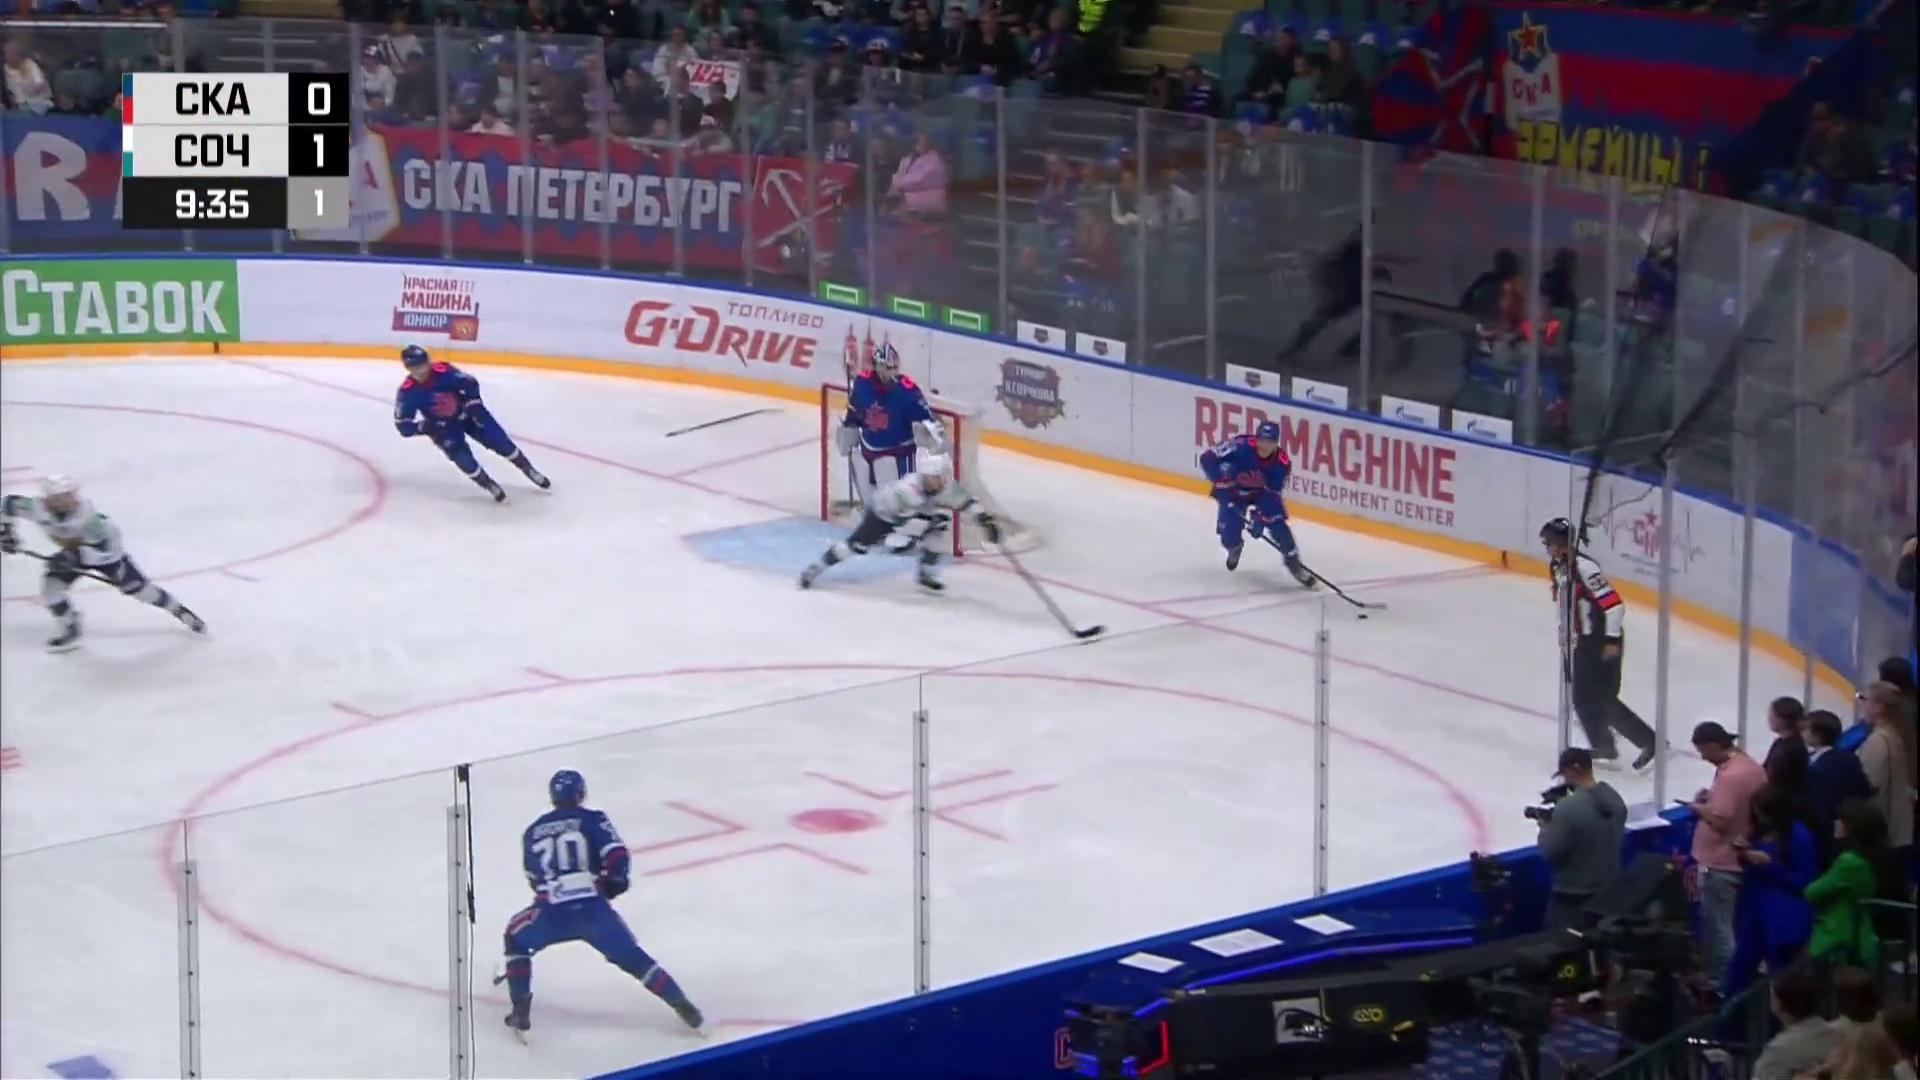ball: (1357, 613, 1369, 620)
